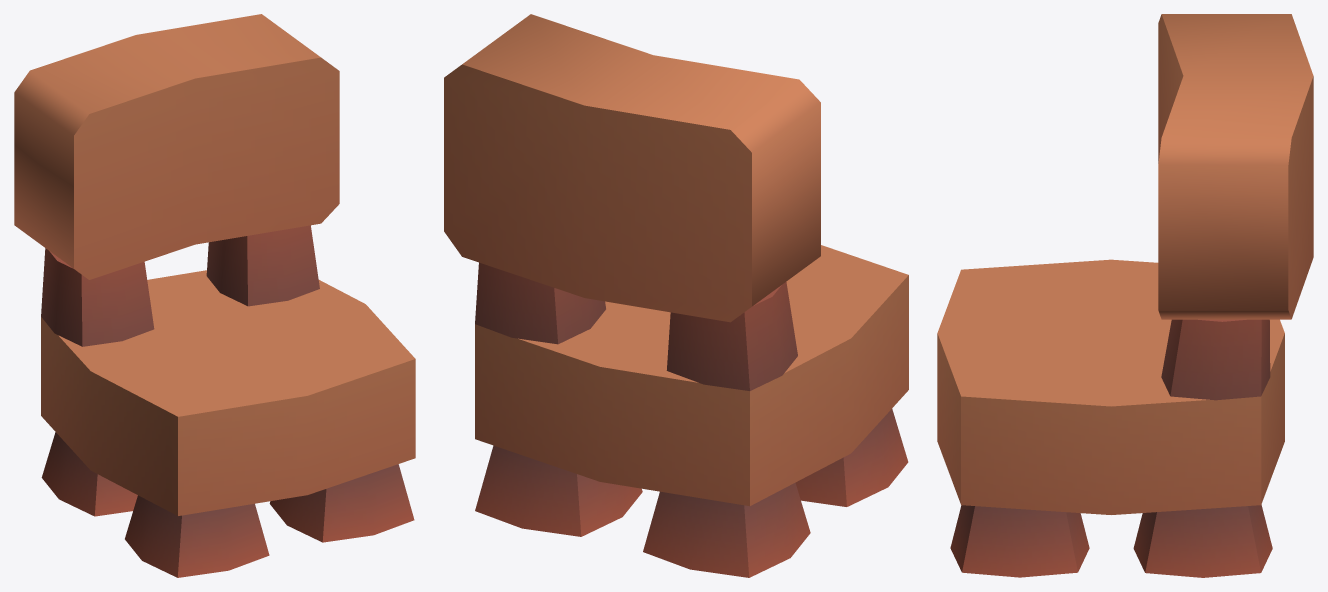
File: chair.obj
3 renders of one model, left to right at view 1: azimuth 30°, elevation 25°; view 2: azimuth 150°, elevation 25°; view 3: azimuth 270°, elevation 25°, orthographic. The views are drawn at different scales.
Parts seen in each view (by area): view 1: chair; view 2: chair; view 3: chair.
Part boxes in pixels (<box>): chair: <box>14,14,415,577</box>; chair: <box>444,14,908,577</box>; chair: <box>937,14,1313,577</box>.
Size of the model in its own units: 0.3465 by 0.4773 by 0.3751.
1 material, 1 textured.
